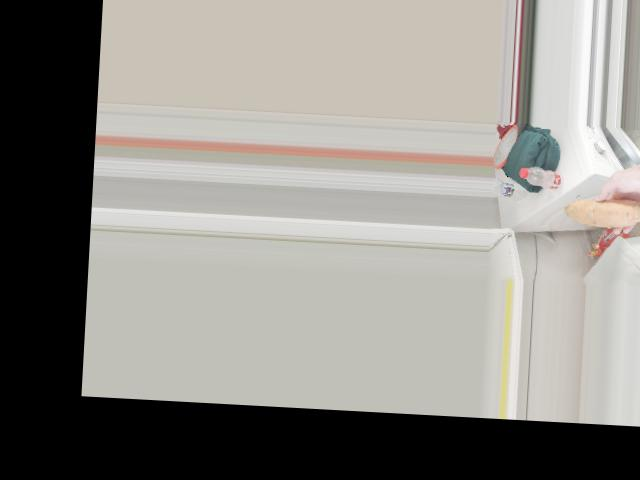sweet_potato: (576, 190, 640, 225)
